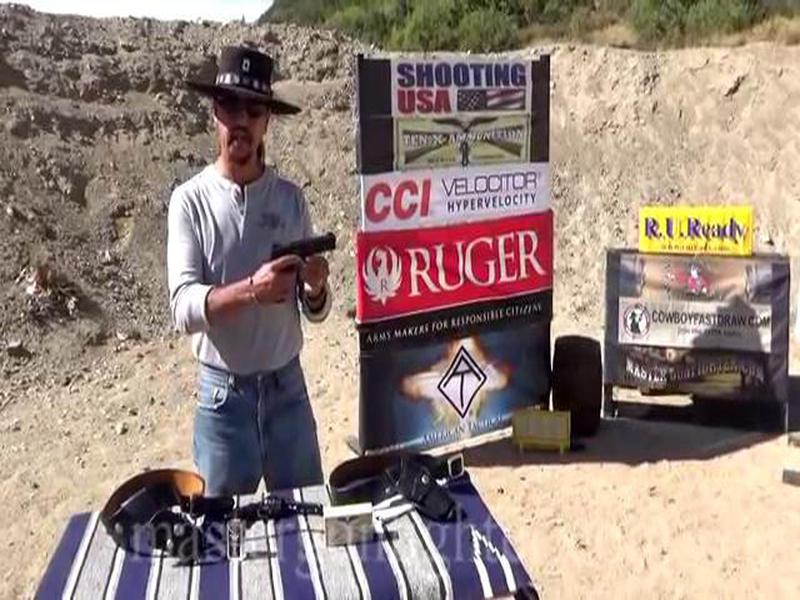Pistola: (258, 229, 338, 307)
